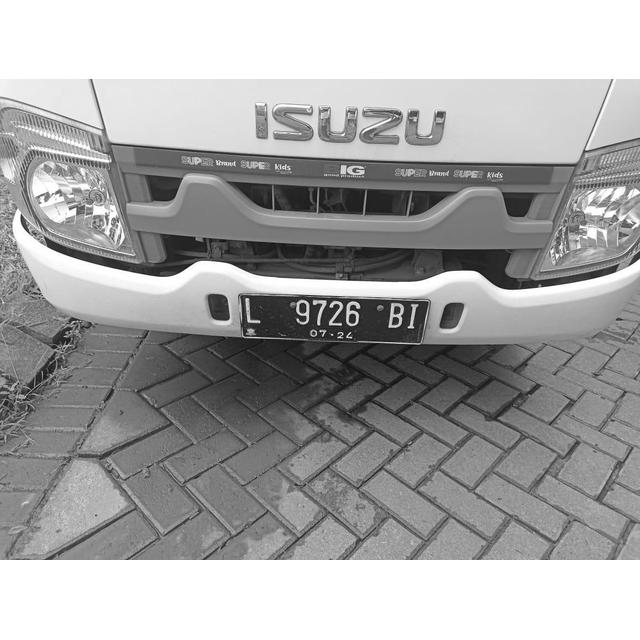license: (243, 297, 422, 342)
